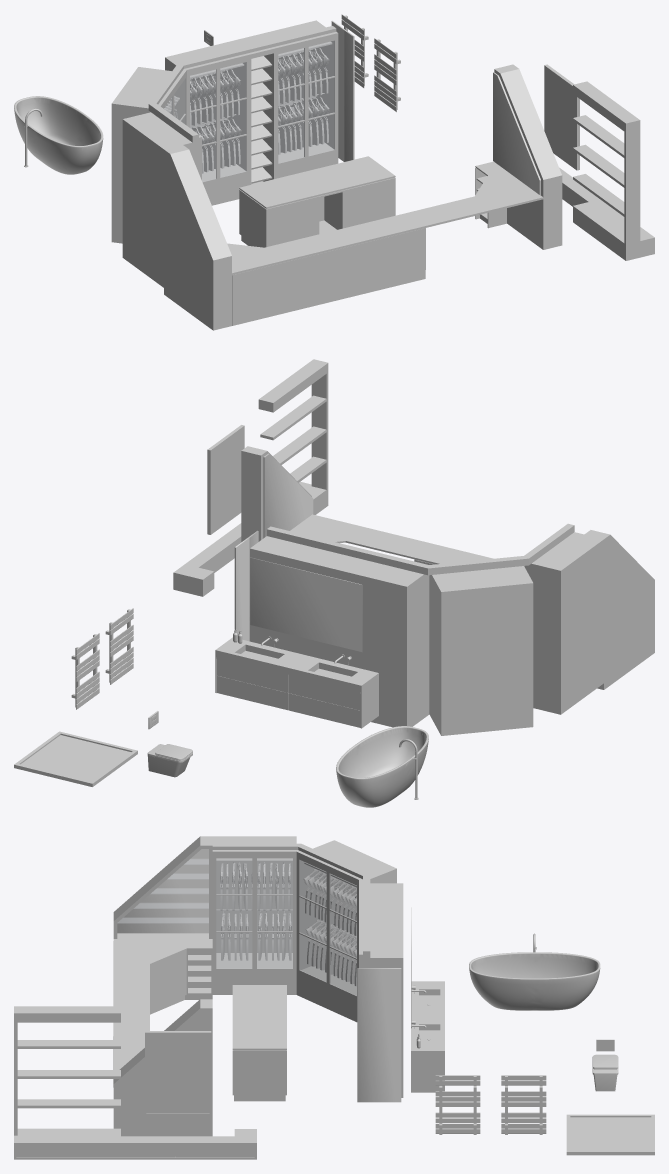
Rendered from EB03__Storey__FirstFloor__ProposedFixtures__MeshModel__.glb.
3 renders of one model, top to bottom at view 1: azimuth 30°, elevation 25°; view 2: azimuth 150°, elevation 25°; view 3: azimuth 270°, elevation 25°, orthographic. The views are drawn at different scales.
Visible parts, largest first — view 1: 27__ProposedBuilding__Fixtures::Default, 85_0001__Wardrobe-01_1_ID24413416, 85_0001__Wardrobe-01_1_ID24413418, 27__ProposedBuilding__Fixtures::Color_000, 27__ProposedBuilding__Fixtures::MAT140__Mirror__ClearDefault, 27_50__TowelRadiator__WallHuing__Type-01___ID23531846, 27_50__TowelRadiator__WallHuing__Type-01___ID23531845, 27__ProposedBuilding__Fixtures::MAT101__Glass__ClearDefault; view 2: 27__ProposedBuilding__Fixtures::Default, 27__ProposedBuilding__Fixtures::MAT140__Mirror__ClearDefault, 85_0001__Wardrobe-01_1_ID24413418, 27__ProposedBuilding__Fixtures::Color_000, 85_0001__Wardrobe-01_1_ID24413416, 27_50__TowelRadiator__WallHuing__Type-01___ID23531845, 27_50__TowelRadiator__WallHuing__Type-01___ID23531846; view 3: 27__ProposedBuilding__Fixtures::Default, 27__ProposedBuilding__Fixtures::MAT101__Glass__ClearDefault, 27__ProposedBuilding__Fixtures::MAT140__Mirror__ClearDefault, 27__ProposedBuilding__Fixtures::Color_000, 27_50__TowelRadiator__WallHuing__Type-01___ID23531846, 27_50__TowelRadiator__WallHuing__Type-01___ID23531845, 85_0001__Wardrobe-01_1_ID24413416, 85_0001__Wardrobe-01_1_ID24413418.
Boxes of the visible parts, box(x1,y1,x2,y2) form: 27__ProposedBuilding__Fixtures::Default: box(111, 26, 654, 330); 85_0001__Wardrobe-01_1_ID24413416: box(253, 20, 338, 178); 85_0001__Wardrobe-01_1_ID24413418: box(165, 42, 249, 205); 27__ProposedBuilding__Fixtures::Color_000: box(14, 96, 103, 174); 27__ProposedBuilding__Fixtures::MAT140__Mirror__ClearDefault: box(331, 20, 539, 194); 27_50__TowelRadiator__WallHuing__Type-01___ID23531846: box(374, 38, 400, 112); 27_50__TowelRadiator__WallHuing__Type-01___ID23531845: box(341, 14, 368, 87); 27__ProposedBuilding__Fixtures::MAT101__Glass__ClearDefault: box(164, 79, 185, 124); 27__ProposedBuilding__Fixtures::Default: box(14, 359, 654, 786); 27__ProposedBuilding__Fixtures::MAT140__Mirror__ClearDefault: box(234, 454, 362, 651); 85_0001__Wardrobe-01_1_ID24413418: box(341, 558, 429, 727); 27__ProposedBuilding__Fixtures::Color_000: box(336, 726, 428, 807); 85_0001__Wardrobe-01_1_ID24413416: box(250, 536, 331, 657); 27_50__TowelRadiator__WallHuing__Type-01___ID23531845: box(71, 633, 99, 709); 27_50__TowelRadiator__WallHuing__Type-01___ID23531846: box(105, 608, 133, 684); 27__ProposedBuilding__Fixtures::Default: box(14, 836, 654, 1159); 27__ProposedBuilding__Fixtures::MAT101__Glass__ClearDefault: box(117, 858, 356, 995); 27__ProposedBuilding__Fixtures::MAT140__Mirror__ClearDefault: box(117, 849, 411, 1102); 27__ProposedBuilding__Fixtures::Color_000: box(469, 952, 600, 1010); 27_50__TowelRadiator__WallHuing__Type-01___ID23531846: box(435, 1075, 480, 1134); 27_50__TowelRadiator__WallHuing__Type-01___ID23531845: box(501, 1075, 546, 1134); 85_0001__Wardrobe-01_1_ID24413416: box(359, 927, 403, 1097); 85_0001__Wardrobe-01_1_ID24413418: box(370, 883, 403, 914).
Bounding box in the file's own units: 6.22 × 2.34 × 8.71.
Materials: 3 (1 with a texture image).
